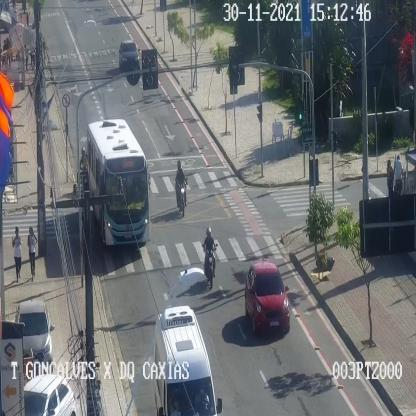bus: (87, 119, 150, 244)
car: (154, 309, 217, 416), (245, 261, 290, 332), (16, 300, 52, 370), (24, 374, 76, 415), (119, 40, 139, 68)
motorbike: (203, 227, 217, 287), (175, 159, 187, 216), (80, 146, 88, 191)
person: (12, 226, 22, 281), (27, 226, 37, 280), (393, 156, 403, 196), (386, 159, 394, 196), (24, 44, 29, 70)
